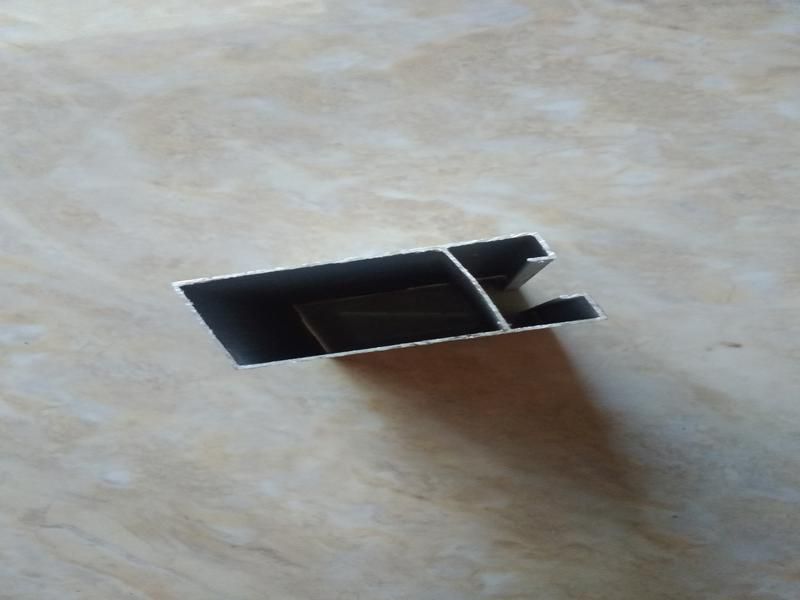Aluminium_1: (155, 222, 632, 384)
